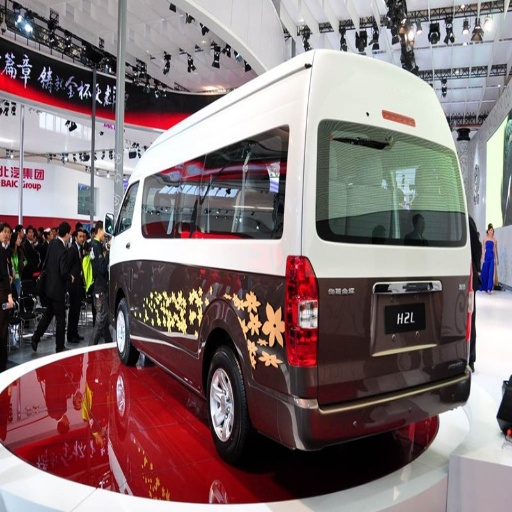back_bumper: (255, 359, 471, 449)
back_left_light: (283, 258, 315, 330)
trunk: (136, 180, 464, 399)
